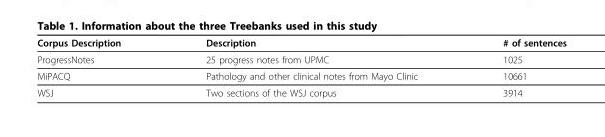table: (36, 36, 565, 97)
table column: (162, 36, 459, 97), (36, 36, 162, 97), (459, 36, 565, 97)
table column header: (36, 36, 565, 50)
table row: (36, 50, 565, 67), (36, 67, 565, 84), (36, 36, 565, 50), (36, 84, 565, 97)
